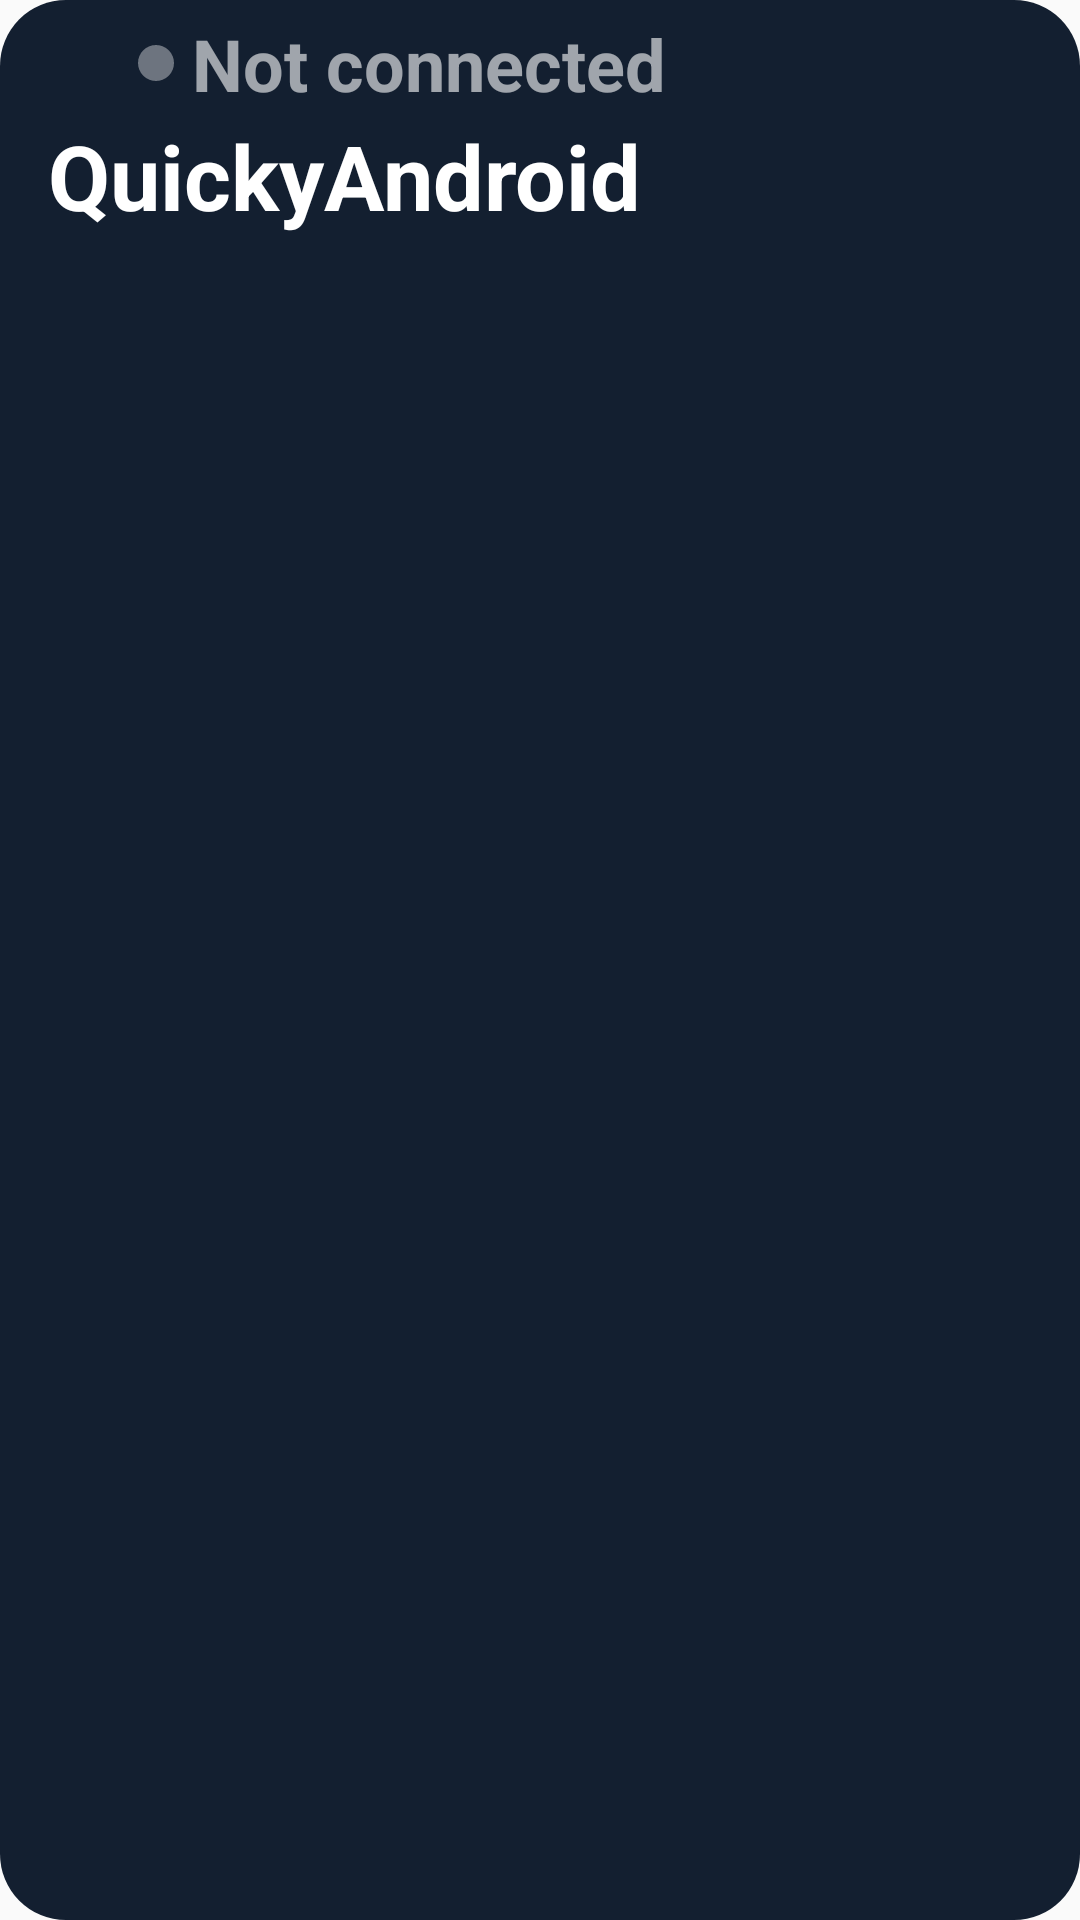

Locate icon controls on the screen. Image size 1080px x 1920px, boxes as (x1, y1, x2, y2).
widget dot disconnected: (138, 45, 174, 81)
